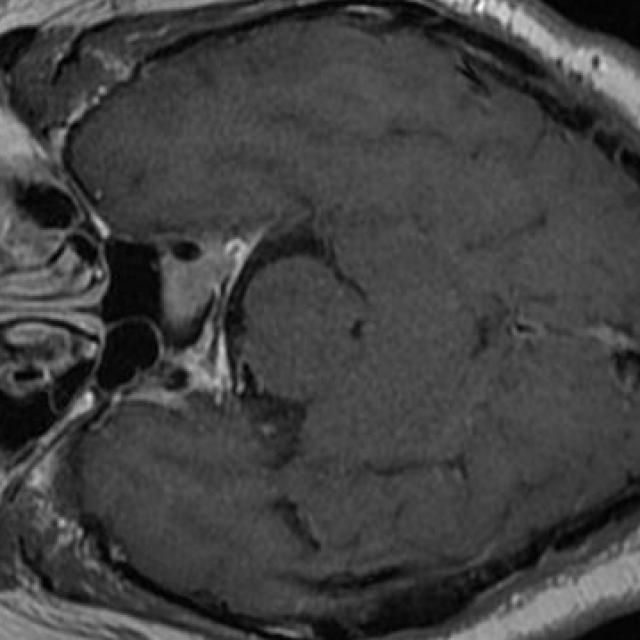pituitary: (162, 239, 242, 319)
